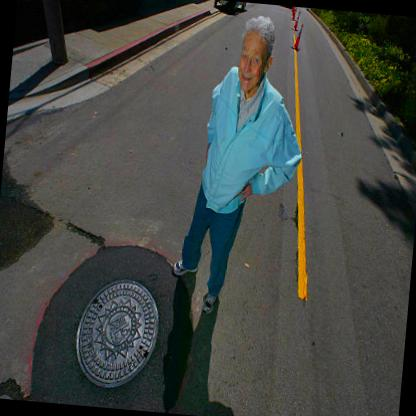manholes: (64, 261, 170, 398)
